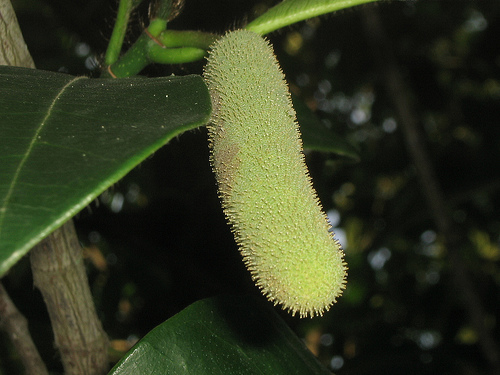jackfruit: (202, 22, 349, 320)
